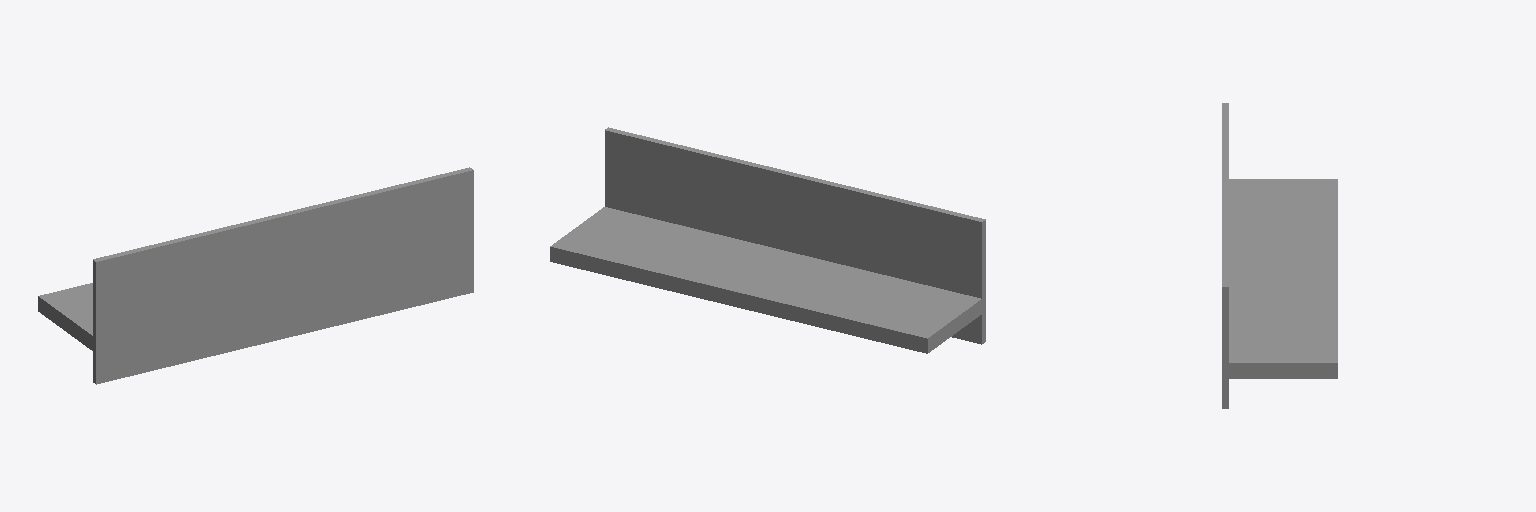
Rendered from bench.obj.
3 renders of one model, left to right at view 1: azimuth 30°, elevation 25°; view 2: azimuth 150°, elevation 25°; view 3: azimuth 270°, elevation 25°, orthographic.
Parts seen in each view (by area): view 1: Cube; view 2: Cube; view 3: Cube.
Boxes of the visible parts, x1,y1,x2,y2 form: Cube: [38, 167, 473, 384]; Cube: [550, 127, 985, 353]; Cube: [1222, 103, 1337, 408].
Bounding box in the file's own units: 0.5507 × 0.1707 × 0.1471.